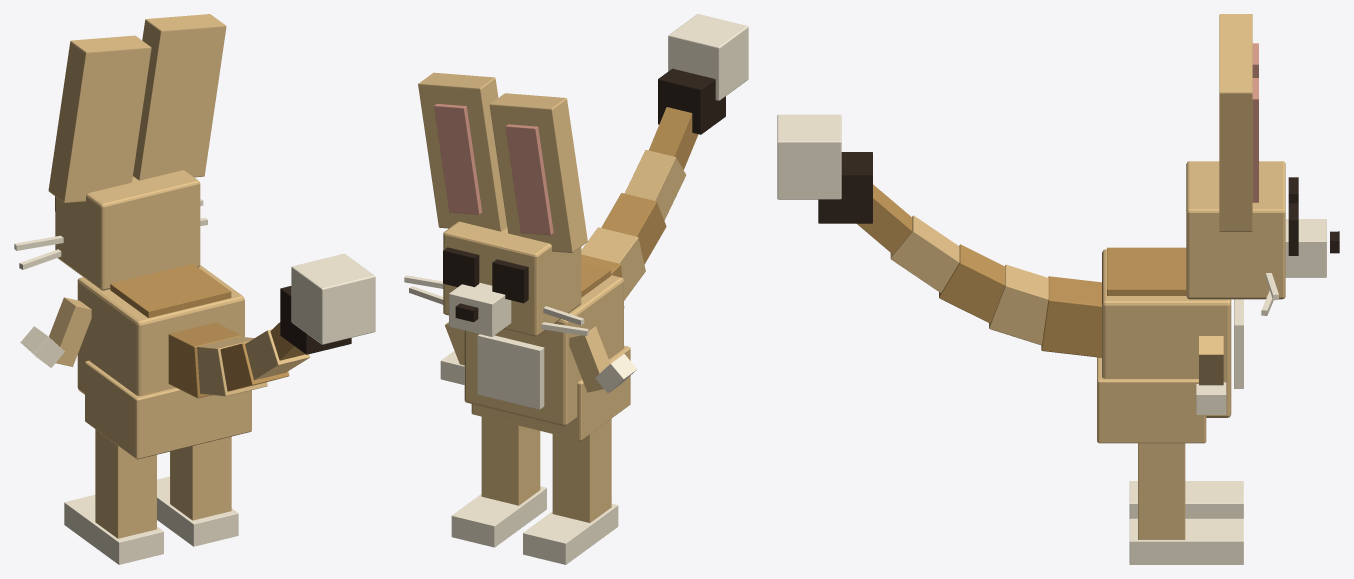
File: jerboa.glb
3 views of the same model, side by side, from view 1: azimuth 30°, elevation 25°; view 2: azimuth 150°, elevation 25°; view 3: azimuth 270°, elevation 25° (orthographic). The views are drawn at different scales.
Parts seen in each view (by area): view 1: body, tail, head, ear.R, ear.L, leg.FR, leg.FL, arm.R; view 2: tail, body, head, ear.R, ear.L, leg.FR, leg.FL, arm.R, arm.L; view 3: tail, body, head, leg.FL, ear.L, leg.FR, arm.L, ear.R.
Boxes of the visible parts, left/top/right/bottom form: body: left=77, top=263, right=251, bottom=459; tail: left=168, top=253, right=375, bottom=398; head: left=14, top=170, right=207, bottom=290; ear.R: left=48, top=35, right=151, bottom=203; ear.L: left=133, top=14, right=226, bottom=180; leg.FR: left=64, top=429, right=163, bottom=564; leg.FL: left=157, top=436, right=238, bottom=546; arm.R: left=20, top=297, right=91, bottom=367; tail: left=581, top=14, right=748, bottom=307; body: left=464, top=262, right=630, bottom=440; head: left=404, top=221, right=588, bottom=336; ear.R: left=489, top=93, right=587, bottom=252; ear.L: left=418, top=72, right=507, bottom=231; leg.FR: left=523, top=419, right=618, bottom=564; leg.FL: left=451, top=417, right=546, bottom=547; arm.R: left=569, top=326, right=637, bottom=393; arm.L: left=440, top=322, right=464, bottom=384; tail: left=777, top=114, right=1101, bottom=357; body: left=1097, top=247, right=1243, bottom=443; head: left=1186, top=161, right=1339, bottom=315; leg.FL: left=1129, top=443, right=1243, bottom=564; ear.L: left=1219, top=48, right=1258, bottom=231; leg.FR: left=1129, top=481, right=1243, bottom=518; arm.L: left=1196, top=336, right=1226, bottom=414; ear.R: left=1219, top=14, right=1258, bottom=77.
Size of the model in its own units: 0.446 by 0.9998 by 1.02.
